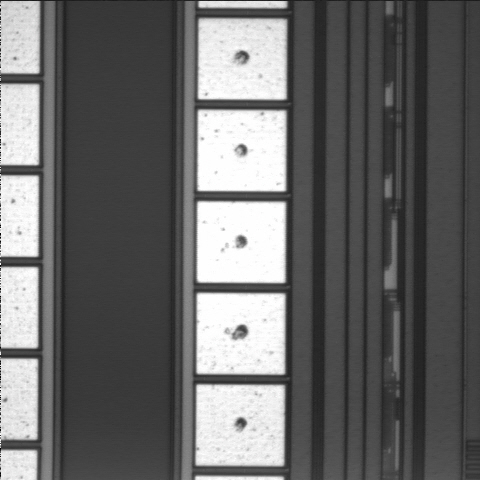pad: (197, 201, 286, 283), (198, 19, 287, 100), (197, 110, 286, 191), (196, 385, 285, 466), (197, 293, 285, 374)
